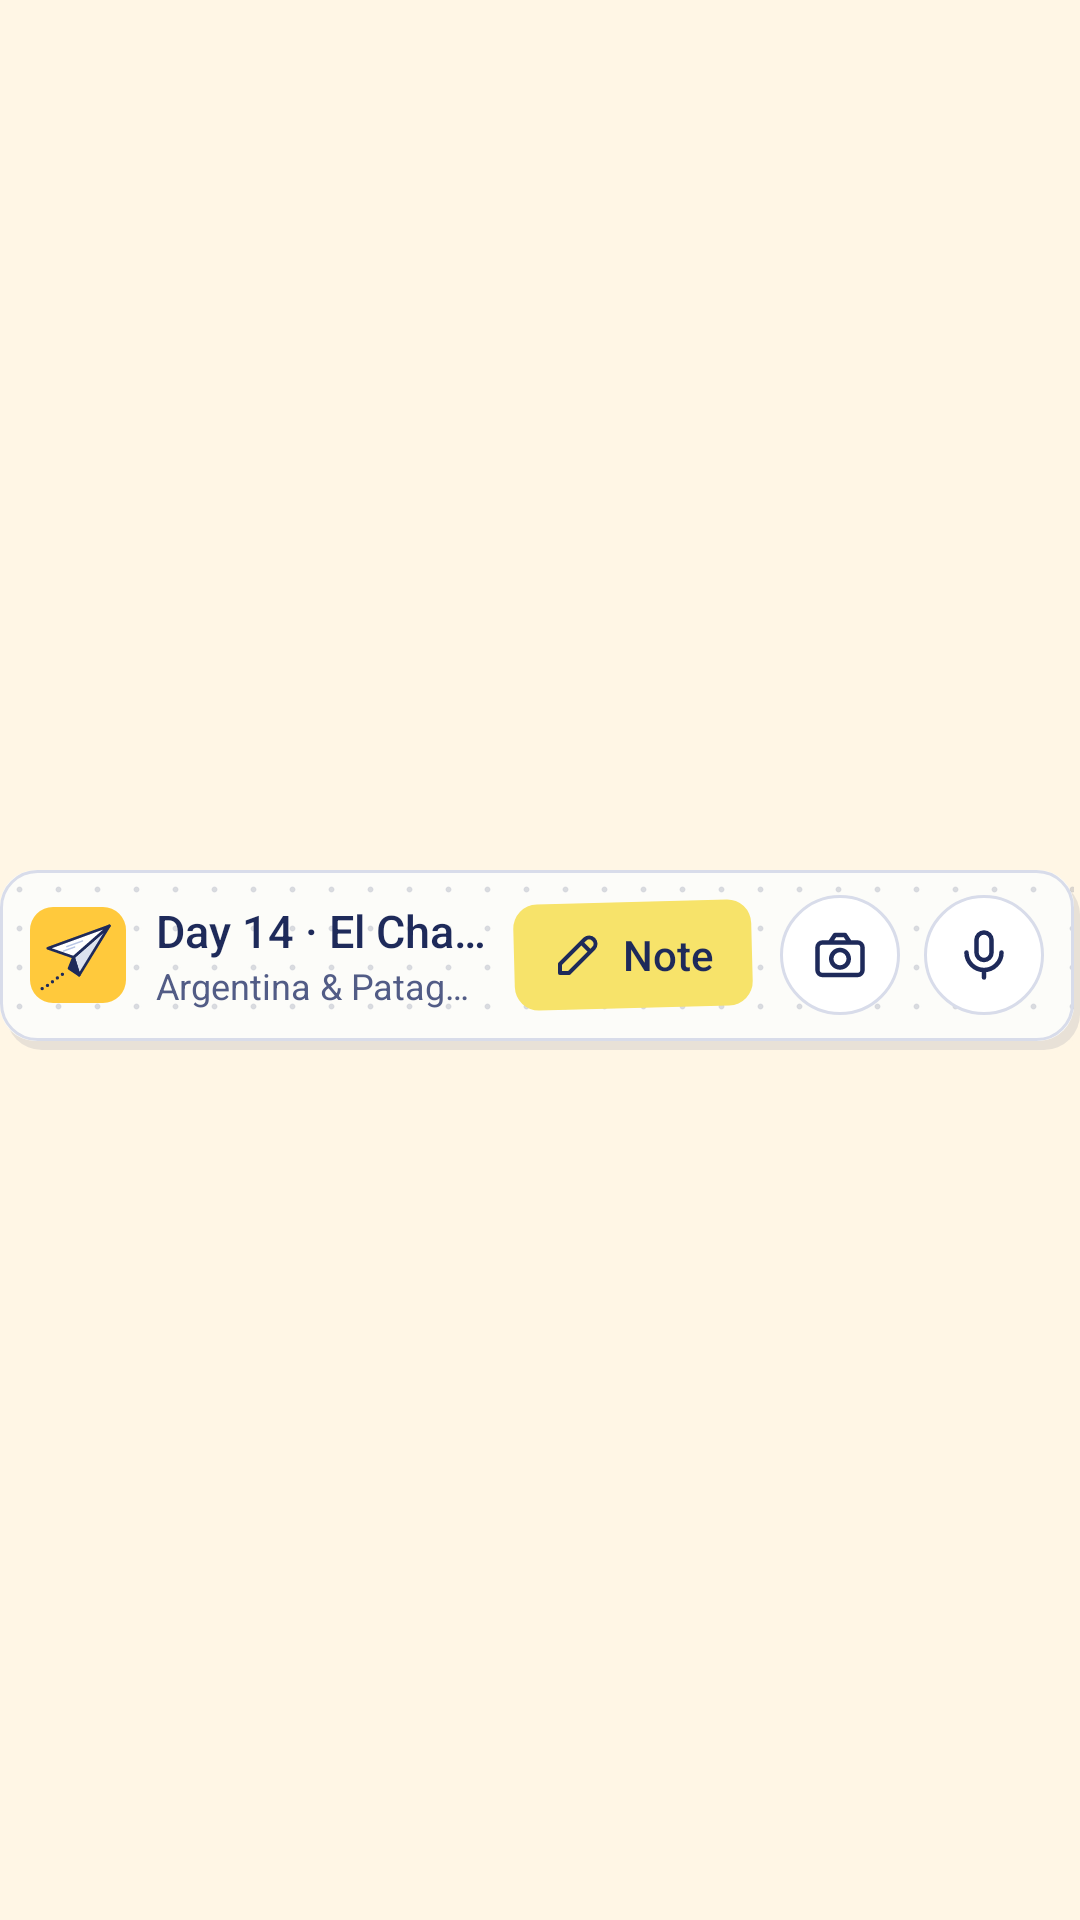

Icon click points for this 1080w x 1920h phone screenshot, format point (x, y):
brand plane: point (78, 955)
Camera: point (840, 955)
Voice note: point (984, 955)
